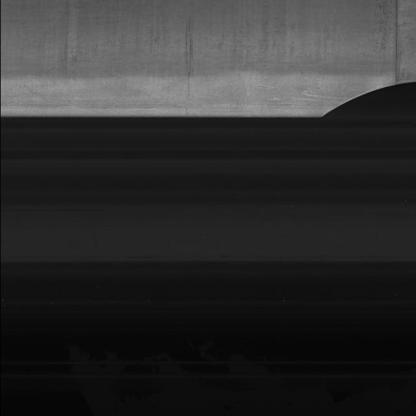welding_line: (388, 3, 410, 92)
